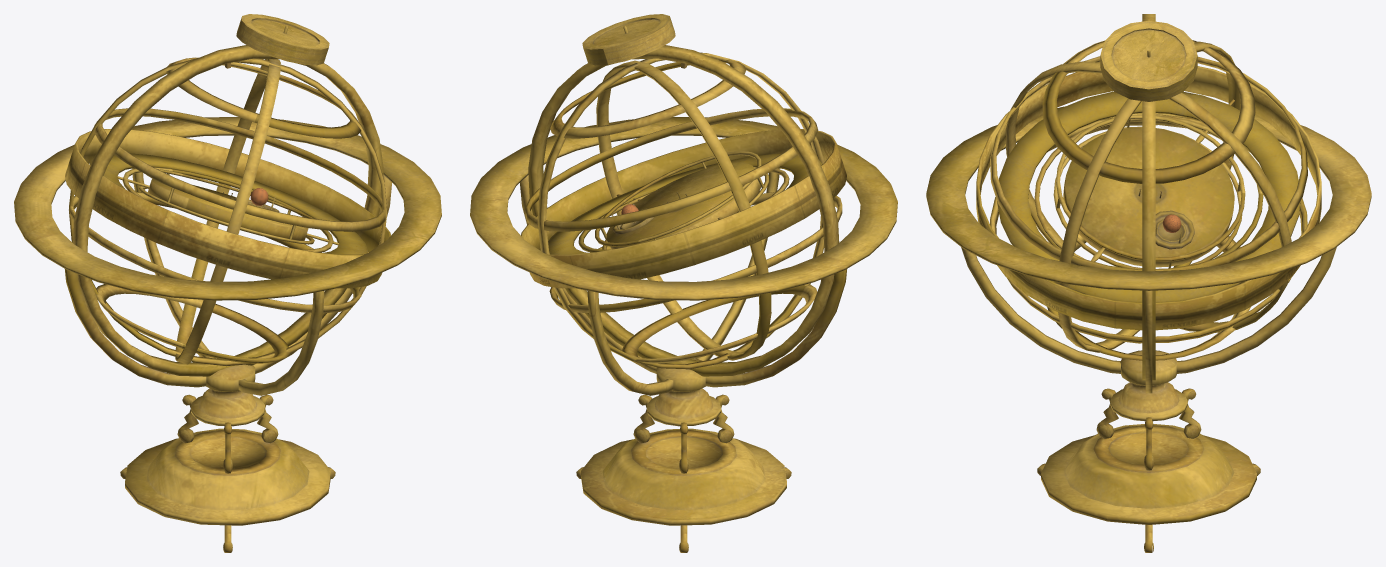
File: globe.glb
3 views of the same model, side by side, from view 1: azimuth 30°, elevation 25°; view 2: azimuth 150°, elevation 25°; view 3: azimuth 270°, elevation 25° (orthographic). The views are drawn at different scales.
Visible parts, largest first — view 1: Bot3_LP, Big3_LP, Mid2_LP, Mid1_LP, Big5_LP, Mid3_LP, Small1_LP, Small2_LP, Mid4_LP; view 2: Bot3_LP, Big3_LP, Mid2_LP, Mid1_LP, Small1_LP, Big5_LP, Mid3_LP, Small2_LP, Mid4_LP; view 3: Bot3_LP, Big3_LP, Mid2_LP, Small1_LP, Mid3_LP, Mid1_LP, Big5_LP, Small2_LP, Mid4_LP, Small4_LP.
Part boxes in pixels (bbox=[...]): Bot3_LP: bbox=[14, 117, 441, 552]; Big3_LP: bbox=[65, 45, 390, 376]; Mid2_LP: bbox=[70, 57, 385, 363]; Mid1_LP: bbox=[69, 57, 387, 366]; Big5_LP: bbox=[236, 14, 329, 65]; Mid3_LP: bbox=[90, 153, 367, 254]; Small1_LP: bbox=[148, 179, 308, 241]; Small2_LP: bbox=[139, 169, 314, 244]; Mid4_LP: bbox=[122, 167, 333, 252]; Bot3_LP: bbox=[470, 117, 897, 552]; Big3_LP: bbox=[521, 45, 846, 376]; Mid2_LP: bbox=[525, 59, 842, 363]; Mid1_LP: bbox=[537, 52, 824, 369]; Small1_LP: bbox=[606, 162, 761, 249]; Big5_LP: bbox=[582, 14, 675, 65]; Mid3_LP: bbox=[548, 153, 822, 254]; Small2_LP: bbox=[595, 151, 769, 249]; Mid4_LP: bbox=[578, 168, 789, 252]; Bot3_LP: bbox=[926, 106, 1371, 552]; Big3_LP: bbox=[976, 14, 1321, 380]; Mid2_LP: bbox=[990, 40, 1307, 360]; Small1_LP: bbox=[1063, 127, 1234, 267]; Mid3_LP: bbox=[997, 91, 1300, 302]; Mid1_LP: bbox=[1005, 41, 1291, 352]; Big5_LP: bbox=[1100, 20, 1197, 101]; Small2_LP: bbox=[1053, 114, 1245, 269]; Mid4_LP: bbox=[1034, 115, 1263, 259]; Small4_LP: bbox=[1155, 210, 1194, 249].
Bounding box in the file's own units: 567 × 689 × 567.
1 material, 1 textured.
